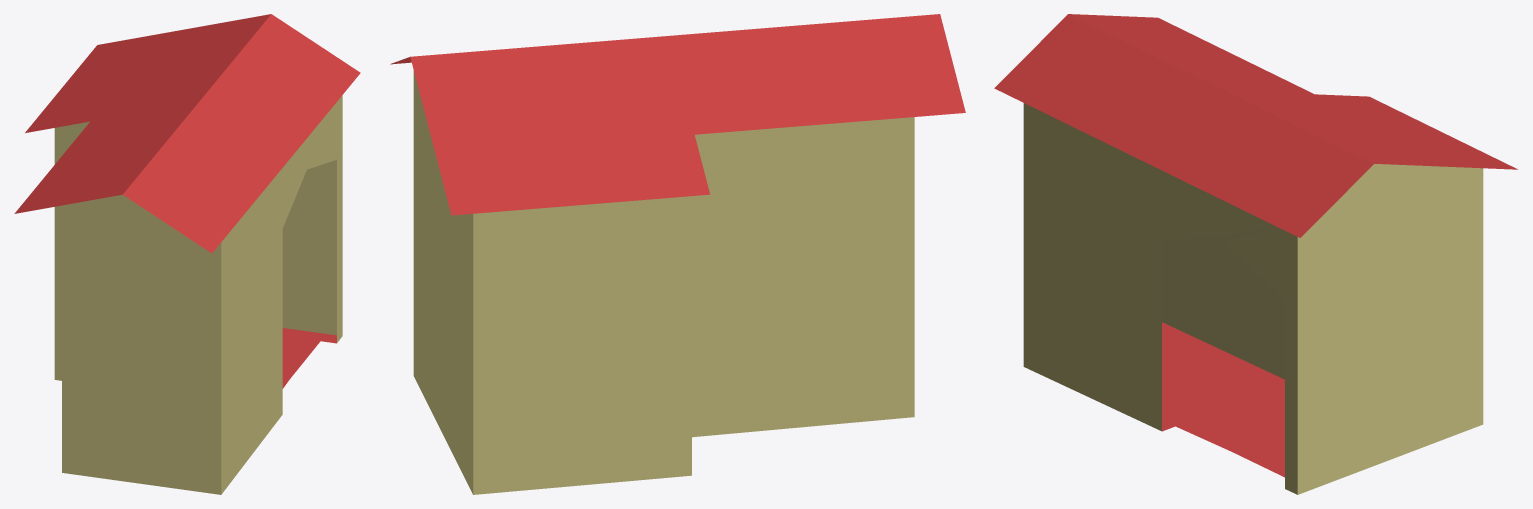
3 renders of one model, left to right at view 1: azimuth 30°, elevation 25°; view 2: azimuth 150°, elevation 25°; view 3: azimuth 270°, elevation 25°, orthographic. The views are drawn at different scales.
Parts seen in each view (by area): view 1: group_5, group_3, group_4, group_6; view 2: group_5, group_3, group_4; view 3: group_5, group_3, group_6, group_4.
Part boxes in pixels (x1,y1,x2,y2): group_5: (54,95,342,494); group_3: (14,14,359,253); group_4: (77,14,360,193); group_6: (282,328,336,388); group_5: (413,70,914,494); group_3: (390,14,965,215); group_4: (405,14,960,146); group_5: (1023,103,1483,494); group_3: (994,14,1517,236); group_6: (1162,322,1284,477); group_4: (1071,15,1373,237).
Bounding box in the file's own units: 14.57 × 15.41 × 10.17.
